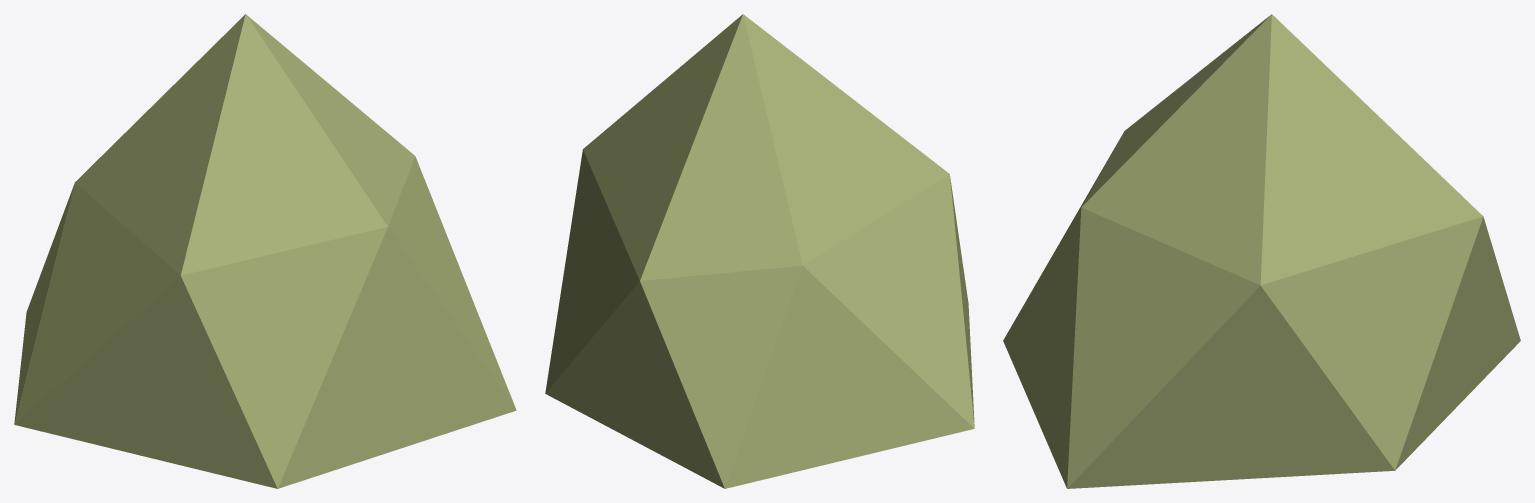
The model's file is Bush_2.fbx.
3 views of the same model, side by side, from view 1: azimuth 30°, elevation 25°; view 2: azimuth 150°, elevation 25°; view 3: azimuth 270°, elevation 25° (orthographic). The views are drawn at different scales.
Parts seen in each view (by area): view 1: Bush3; view 2: Bush3; view 3: Bush3.
Boxes of the visible parts, left/top/right/bottom form: Bush3: left=14, top=14, right=516, bottom=488; Bush3: left=545, top=14, right=974, bottom=488; Bush3: left=1003, top=14, right=1520, bottom=488.
Bounding box in the file's own units: 114 × 119 × 120.
